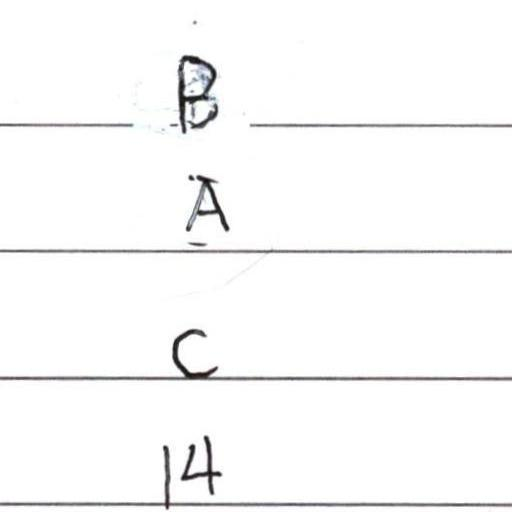ans: (158, 432, 222, 506), (168, 45, 220, 134), (169, 327, 220, 380), (185, 174, 229, 234)
